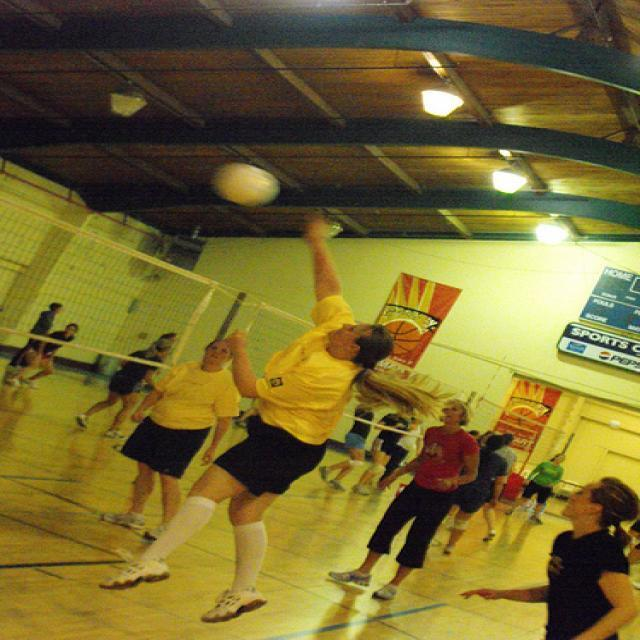volleyball: (209, 165, 280, 206)
